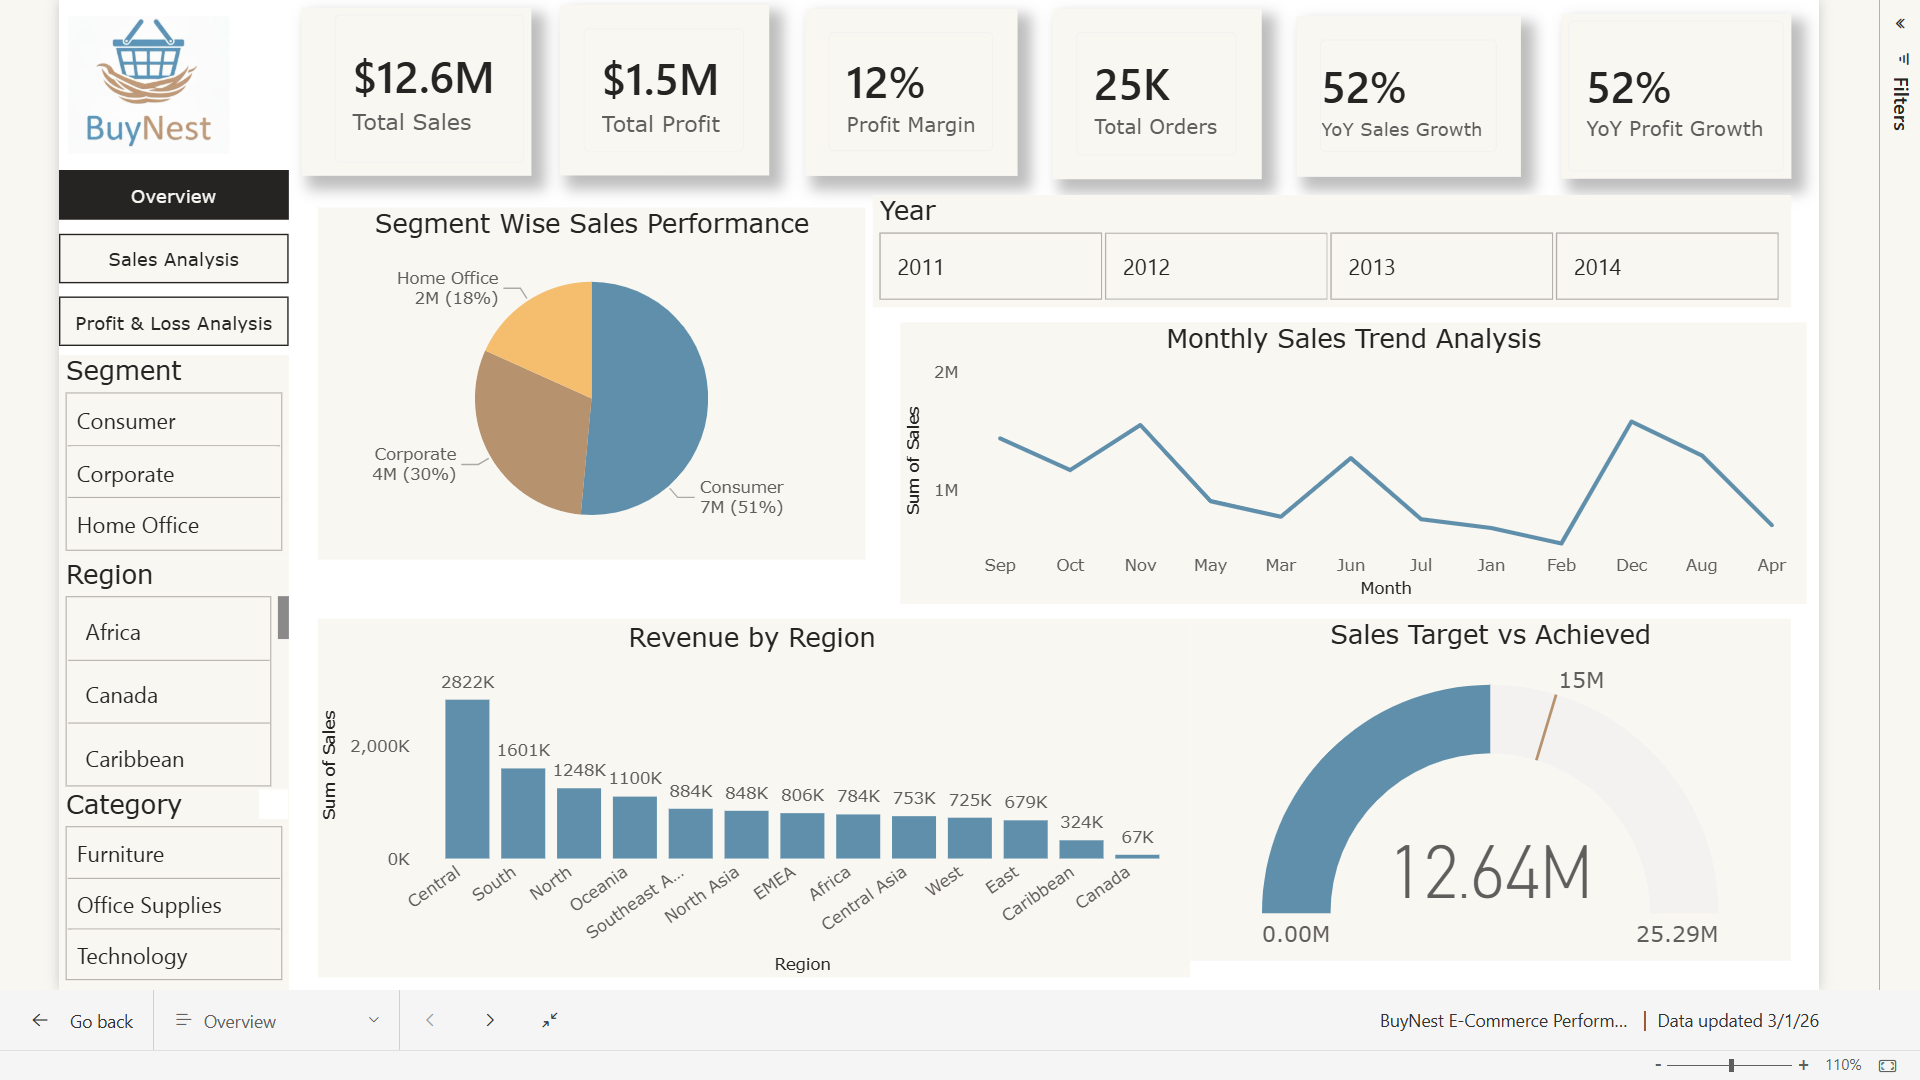

The dashboard page shown, as its layout file describes it:
{"tool":"powerbi","page":{"name":"Overview","canvas":[1280,720],"ordinal":0},"visuals":[{"type":"cardVisual","fields":{"Data":["BuyNest_E_Commerce.Total Sales"]},"box":[175.9,5.1,167.1,122.8],"z":0},{"type":"cardVisual","fields":{"Data":["BuyNest_E_Commerce.Total Profit"]},"box":[364.6,3.8,151.9,124.1],"z":1000},{"type":"cardVisual","title":"Profit Margin","fields":{"Data":["BuyNest_E_Commerce.Profit Margin %"]},"box":[543,6.3,154.4,121.5],"z":2000},{"type":"cardVisual","fields":{"Data":["BuyNest_E_Commerce.Total Orders"]},"box":[722.8,6.3,151.9,124.1],"z":3000},{"type":"cardVisual","fields":{"Data":["BuyNest_E_Commerce.YoY Sales Growth %"]},"box":[900,11.4,163.3,116.5],"z":4000},{"type":"cardVisual","fields":{"Data":["BuyNest_E_Commerce.YoY Profit Growth %"]},"box":[1092.4,10.1,167.1,120.3],"z":5000},{"type":"lineChart","title":"Monthly Sales Trend Analysis","fields":{"Category":["Date Table.Month"],"Y":["Sum(BuyNest_E_Commerce.Sales)"]},"box":[611.4,234.2,659.5,205.1],"z":6000},{"type":"clusteredColumnChart","title":"Revenue by Region","fields":{"Y":["Sum(BuyNest_E_Commerce.Sales)"],"Category":["BuyNest_E_Commerce.Region"]},"box":[188.2,450,634.6,260.6],"z":7000},{"type":"advancedSlicerVisual","fields":{"Values":["Date Table.Date.Variation.Date Hierarchy.Year"]},"box":[591.9,141.8,667.7,81.9],"z":8000},{"type":"advancedSlicerVisual","fields":{"Values":["BuyNest_E_Commerce.Region"]},"box":[0,406.3,167.1,167.1],"z":9000},{"type":"advancedSlicerVisual","fields":{"Values":["BuyNest_E_Commerce.Segment"]},"box":[0,258.2,167.1,148.1],"z":10000},{"type":"advancedSlicerVisual","fields":{"Values":["BuyNest_E_Commerce.Category"]},"box":[0,573.4,167.1,146.8],"z":11000},{"type":"pieChart","title":"Segment Wise Sales Performance","fields":{"Category":["BuyNest_E_Commerce.Segment"],"Y":["Sum(BuyNest_E_Commerce.Sales)"]},"box":[188.6,150.6,398.7,255.7],"z":12000},{"type":"pageNavigator","box":[0,124.1,167.1,130.4],"z":13000},{"type":"image","box":[0,11.4,130.4,100],"z":14000},{"type":"gauge","title":"Sales Target vs Achieved","fields":{"Y":["Sum(BuyNest_E_Commerce.Sales)"],"TargetValue":["BuyNest_E_Commerce.Sales Target"]},"box":[822.8,450,436.7,248.5],"z":15000}]}

Visuals, with their boxes on the page's 1280x720 design canvas (x1, y1, x2, y2). These are canvas units, not pixel positions in the 1920x1080 screenshot, which may show the page scaled, cropped or inside an application window:
cardVisual - BuyNest_E_Commerce.Total Sales: locate(176, 5, 343, 128)
cardVisual - BuyNest_E_Commerce.Total Profit: locate(365, 4, 516, 128)
"Profit Margin" cardVisual: locate(543, 6, 697, 128)
cardVisual - BuyNest_E_Commerce.Total Orders: locate(723, 6, 875, 130)
cardVisual - BuyNest_E_Commerce.YoY Sales Growth %: locate(900, 11, 1063, 128)
cardVisual - BuyNest_E_Commerce.YoY Profit Growth %: locate(1092, 10, 1260, 130)
"Monthly Sales Trend Analysis" lineChart: locate(611, 234, 1271, 439)
"Revenue by Region" clusteredColumnChart: locate(188, 450, 823, 711)
advancedSlicerVisual - Date Table.Date.Variation.Date Hierarchy.Year: locate(592, 142, 1260, 224)
advancedSlicerVisual - BuyNest_E_Commerce.Region: locate(0, 406, 167, 573)
advancedSlicerVisual - BuyNest_E_Commerce.Segment: locate(0, 258, 167, 406)
advancedSlicerVisual - BuyNest_E_Commerce.Category: locate(0, 573, 167, 720)
"Segment Wise Sales Performance" pieChart: locate(189, 151, 587, 406)
pageNavigator: locate(0, 124, 167, 254)
image: locate(0, 11, 130, 111)
"Sales Target vs Achieved" gauge: locate(823, 450, 1260, 698)
